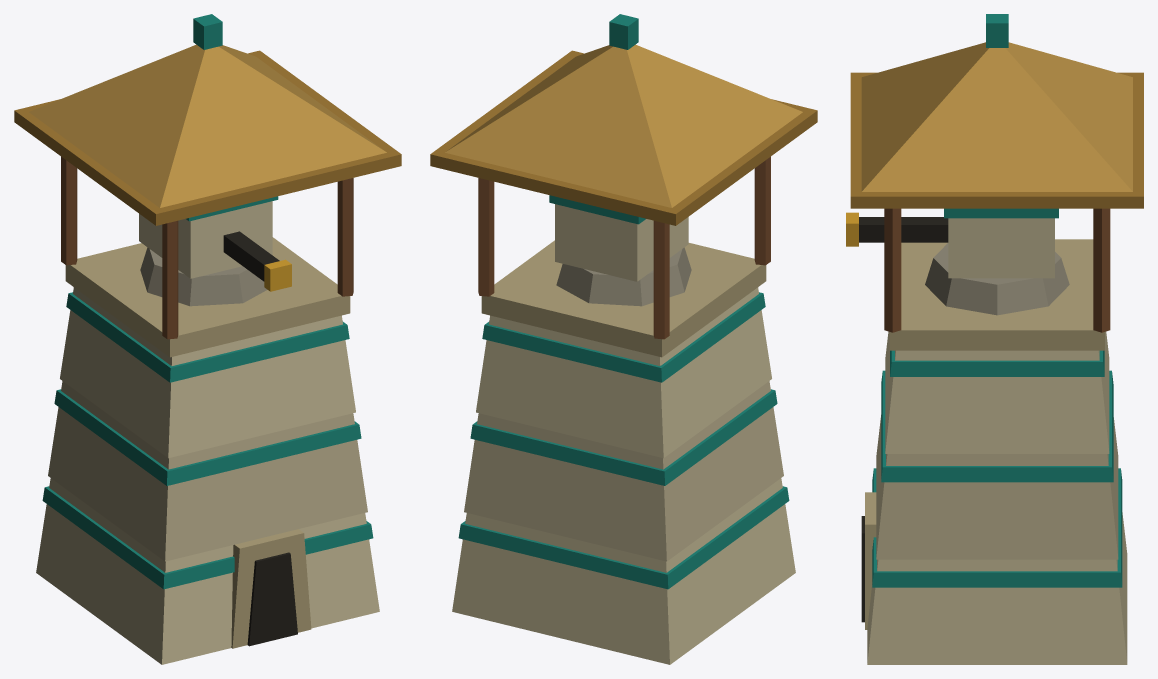
File: tower_t2.glb
The picture shows the model from 3 angles, left to right: view 1: azimuth 30°, elevation 25°; view 2: azimuth 150°, elevation 25°; view 3: azimuth 270°, elevation 25°; orthographic projection. The views are drawn at different scales.
Parts seen in each view (by area): view 1: body, part_turret; view 2: body, part_turret; view 3: body, part_turret.
Part boxes in pixels (bbox=[...]): body: bbox=[14, 14, 401, 664]; part_turret: bbox=[139, 196, 291, 306]; body: bbox=[430, 14, 817, 664]; part_turret: bbox=[549, 195, 691, 306]; body: bbox=[850, 14, 1143, 664]; part_turret: bbox=[846, 208, 1069, 315].
Bounding box in the file's own units: 1.31 × 2.91 × 1.33.
